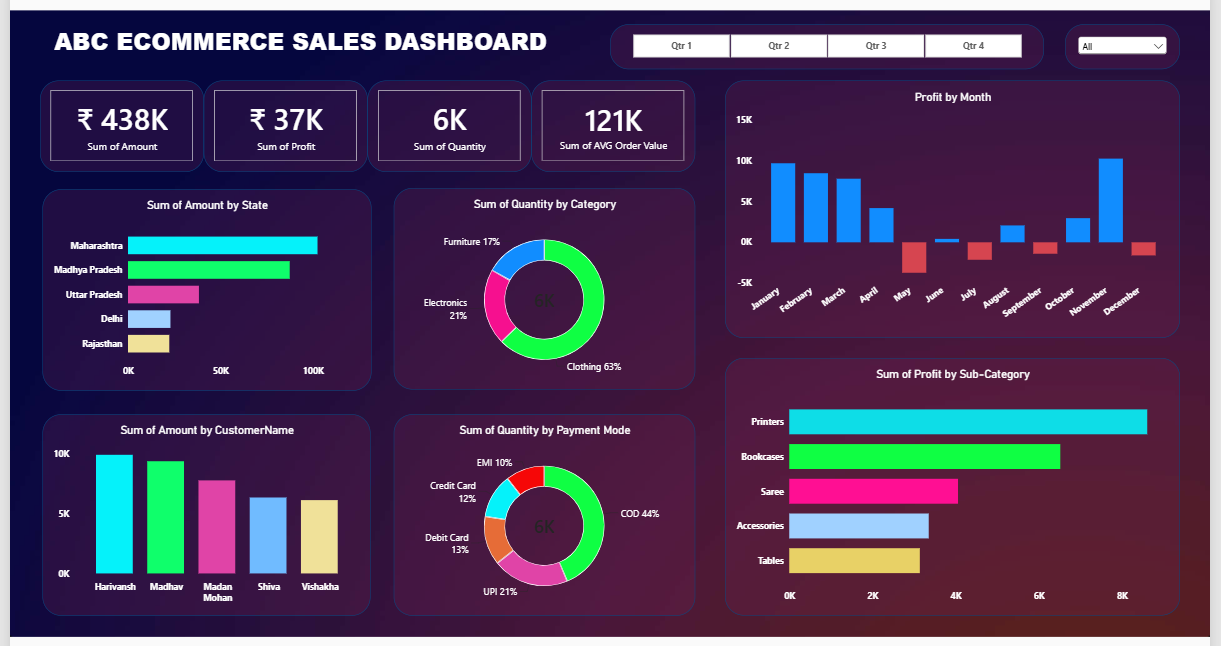

The dashboard page shown, as its layout file describes it:
{"tool":"powerbi","page":{"name":"Page 1","canvas":[1920,1080],"ordinal":0},"visuals":[{"type":"textbox","box":[48,58,834,58],"z":0},{"type":"columnChart","title":"Profit by Month","fields":{"Category":["Orders.Order Date.Variation.Date Hierarchy.Month"],"Y":["Sum(Details.Profit)"]},"box":[1144,148,728,412],"z":1000},{"type":"barChart","fields":{"Category":["Details.Sub-Category"],"Y":["Sum(Details.Profit)"]},"box":[1144,592,728,412],"z":2000},{"type":"donutChart","title":"Sum of Quantity by Category","fields":{"Category":["Details.Category"],"Y":["Sum(Details.Quantity)"]},"box":[614,320,482,322],"z":3000},{"type":"donutChart","title":"Sum of Quantity by Payment Mode","fields":{"Category":["Details.PaymentMode"],"Y":["Sum(Details.Quantity)"]},"box":[614,682,482,322],"z":4000},{"type":"cardVisual","fields":{"Data":["Sum(Details.Amount)"]},"box":[48,148.4,262,146],"z":5000},{"type":"cardVisual","fields":{"Data":["Sum(Details.Profit)"]},"box":[310,148.4,262,146],"z":6000},{"type":"cardVisual","fields":{"Data":["Sum(Details.Quantity)"]},"box":[572,148.4,262,146],"z":7000},{"type":"cardVisual","fields":{"Data":["Sum(Details.AVG Order Value)"]},"box":[834,148.4,262,146],"z":8000},{"type":"barChart","fields":{"Category":["Orders.State"],"Y":["Sum(Details.Amount)"]},"box":[52,322,526,322],"z":9000},{"type":"columnChart","fields":{"Category":["Orders.CustomerName"],"Y":["Sum(Details.Amount)"]},"box":[52,682,525,322.5],"z":10000},{"type":"slicer","fields":{"Values":["Orders.Order Date.Variation.Date Hierarchy.Quarter"]},"box":[960,58,694,72],"z":11000},{"type":"slicer","fields":{"Values":["Orders.State"]},"box":[1687.5,57.5,184,72],"z":12000}]}

Visuals, with their boxes on the page's 1920x1080 design canvas (x1, y1, x2, y2). These are canvas units, not pixel positions in the 1221x646 screenshot, which may show the page scaled, cropped or inside an application window:
textbox: <region>48, 58, 882, 116</region>
"Profit by Month" columnChart: <region>1144, 148, 1872, 560</region>
barChart - Details.Sub-Category x Sum(Details.Profit): <region>1144, 592, 1872, 1004</region>
"Sum of Quantity by Category" donutChart: <region>614, 320, 1096, 642</region>
"Sum of Quantity by Payment Mode" donutChart: <region>614, 682, 1096, 1004</region>
cardVisual - Sum(Details.Amount): <region>48, 148, 310, 294</region>
cardVisual - Sum(Details.Profit): <region>310, 148, 572, 294</region>
cardVisual - Sum(Details.Quantity): <region>572, 148, 834, 294</region>
cardVisual - Sum(Details.AVG Order Value): <region>834, 148, 1096, 294</region>
barChart - Orders.State x Sum(Details.Amount): <region>52, 322, 578, 644</region>
columnChart - Orders.CustomerName x Sum(Details.Amount): <region>52, 682, 577, 1004</region>
slicer - Orders.Order Date.Variation.Date Hierarchy.Quarter: <region>960, 58, 1654, 130</region>
slicer - Orders.State: <region>1688, 58, 1872, 130</region>
